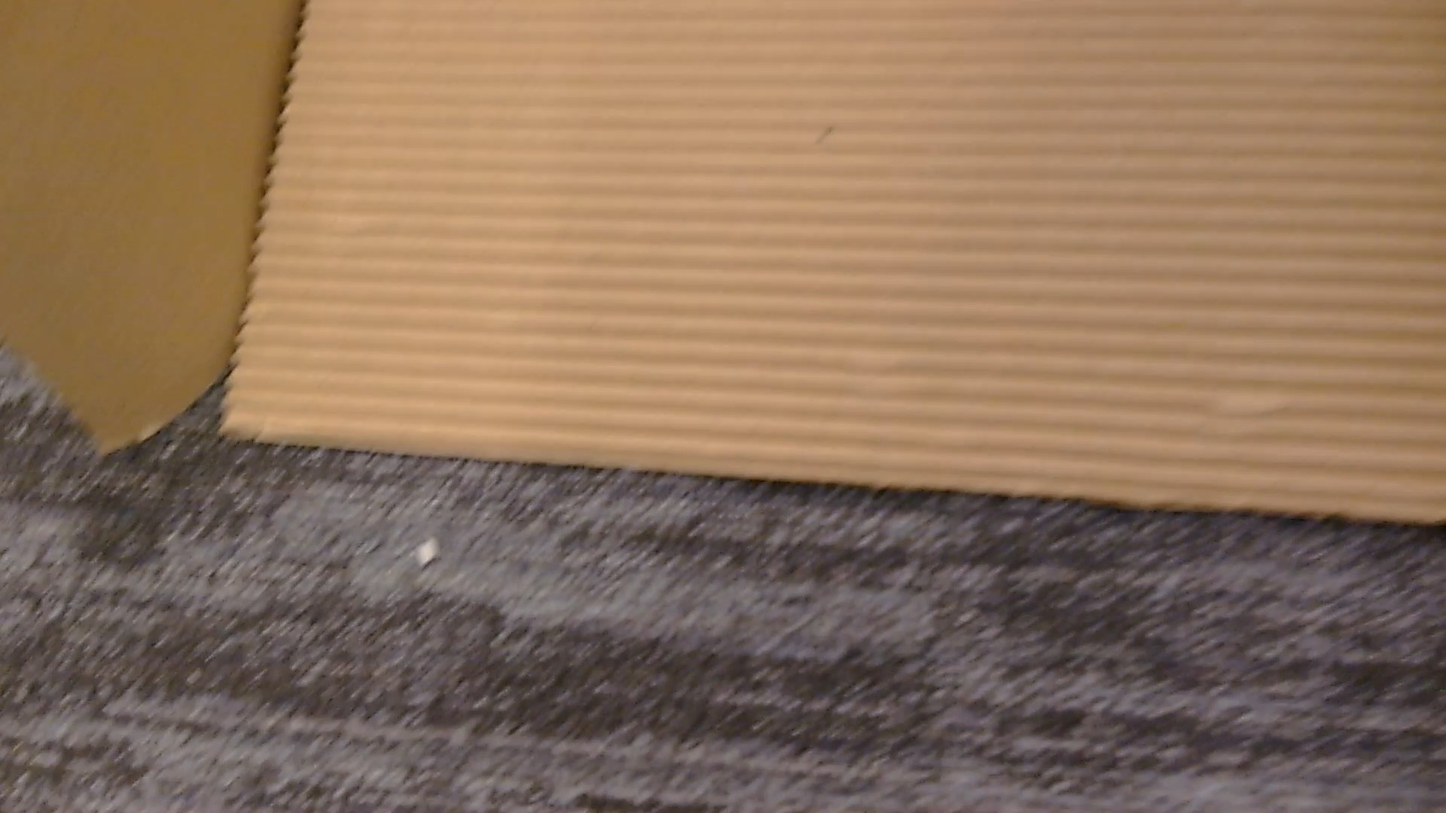Ramp: (0, 0, 1445, 523)
